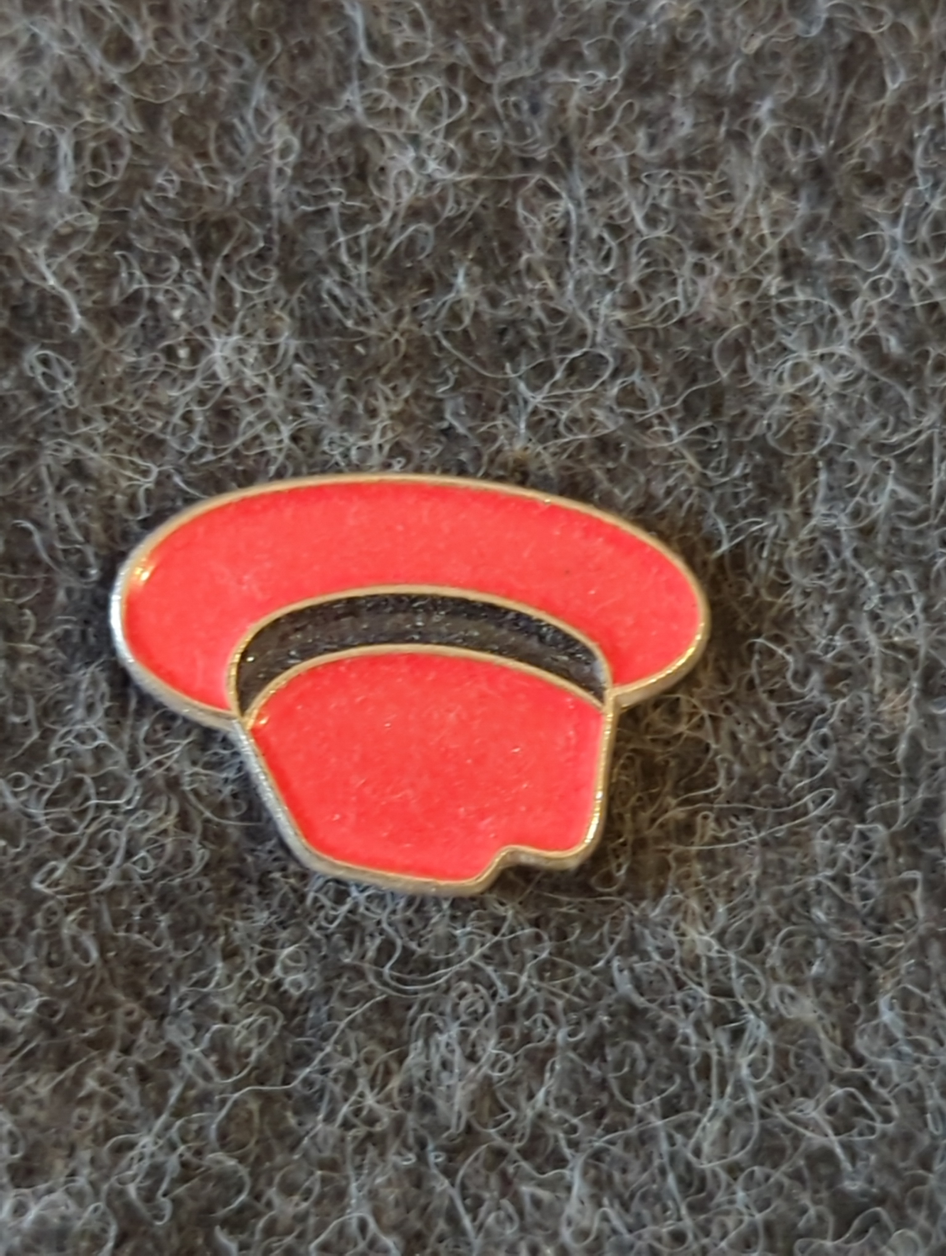Red-Hat: (10, 356, 844, 1015)
